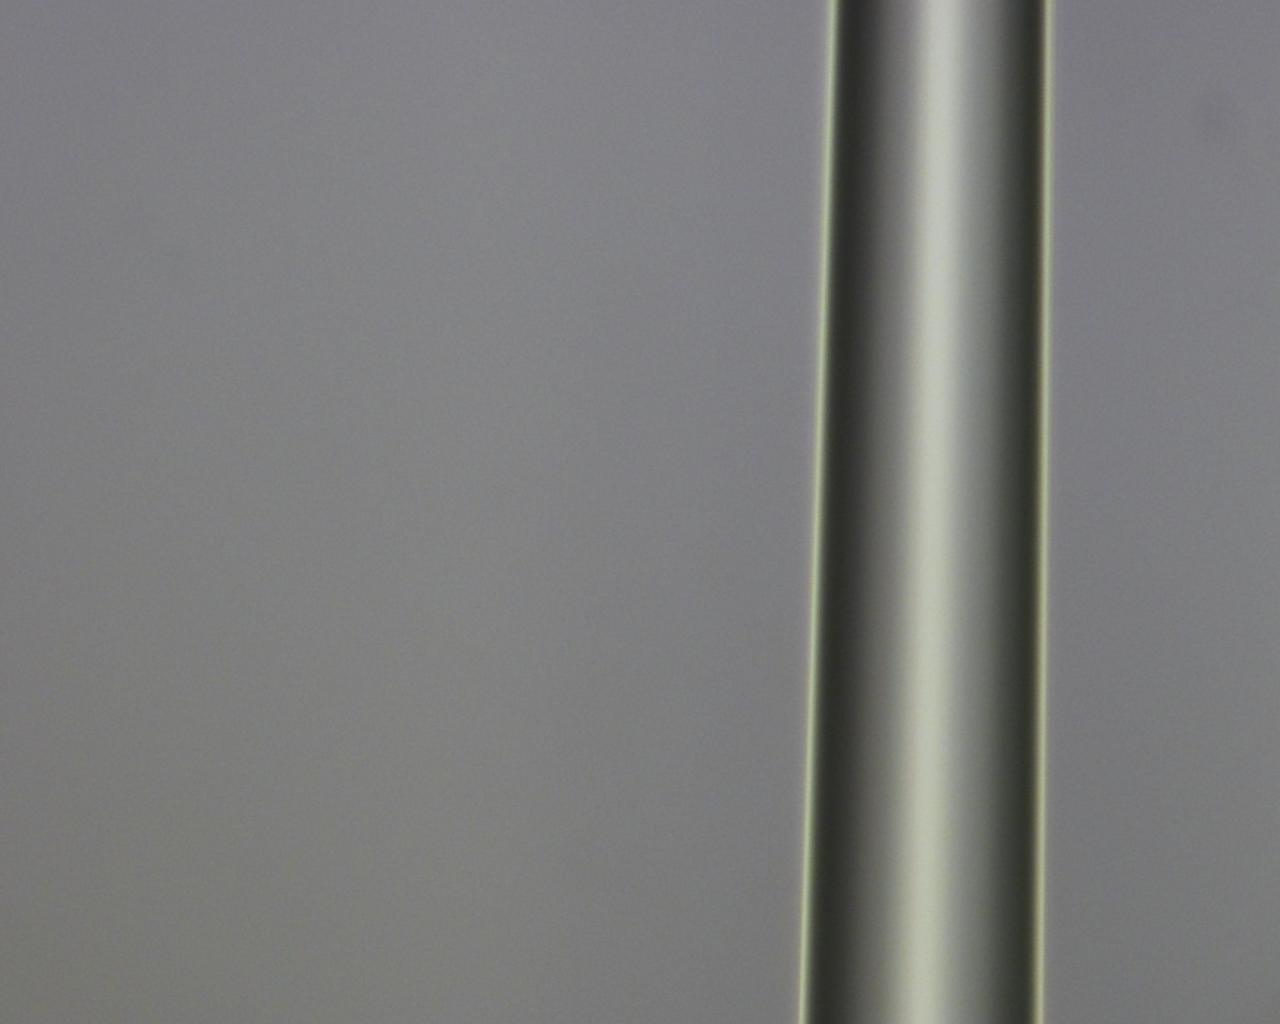fiber: (90, 0, 419, 1024)
